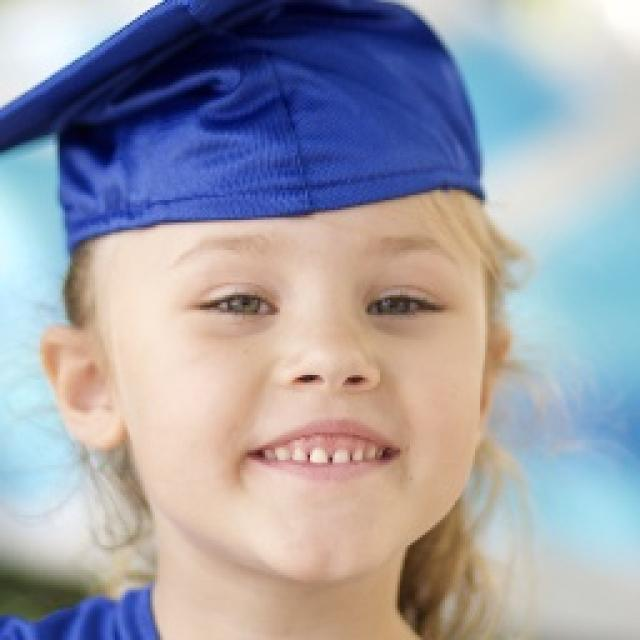earlobe: (89, 408, 129, 454)
eye: (366, 291, 442, 319), (196, 293, 278, 318)
nose: (278, 369, 386, 415)
wholeear: (39, 324, 129, 453)
